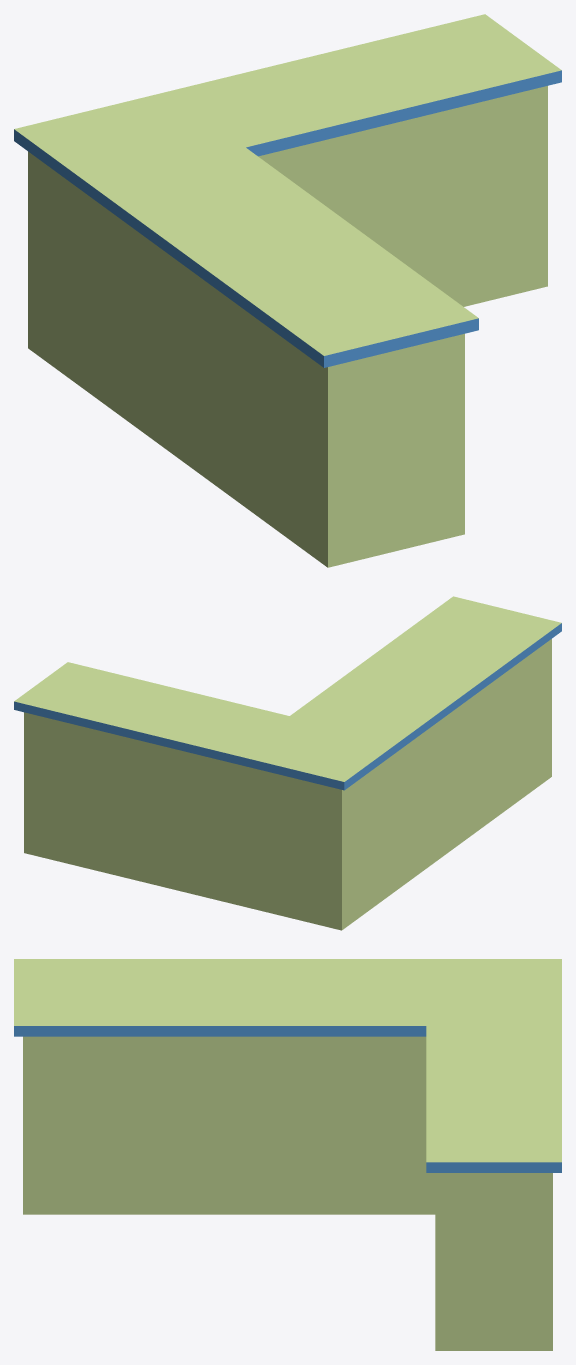
File: DeskCorner.fbx
3 renders of one model, top to bottom at view 1: azimuth 30°, elevation 25°; view 2: azimuth 150°, elevation 25°; view 3: azimuth 270°, elevation 25°, orthographic. The views are drawn at different scales.
Visible parts, largest first — view 1: DeskCorner; view 2: DeskCorner; view 3: DeskCorner.
Boxes of the visible parts, x1,y1,x2,y2 form: DeskCorner: [14, 14, 561, 567]; DeskCorner: [14, 596, 561, 930]; DeskCorner: [14, 959, 561, 1350].
Bounding box in the file's own units: 2 × 0.8825 × 2.28.
